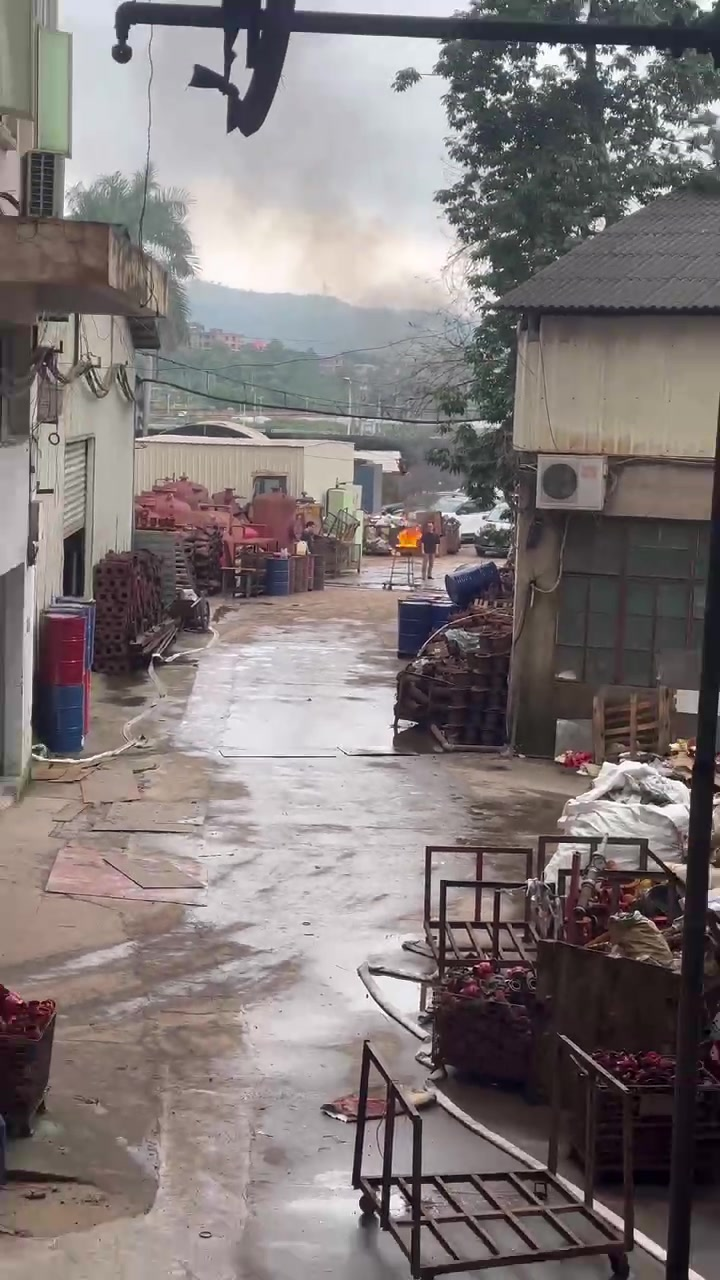fire: (396, 525, 421, 546)
